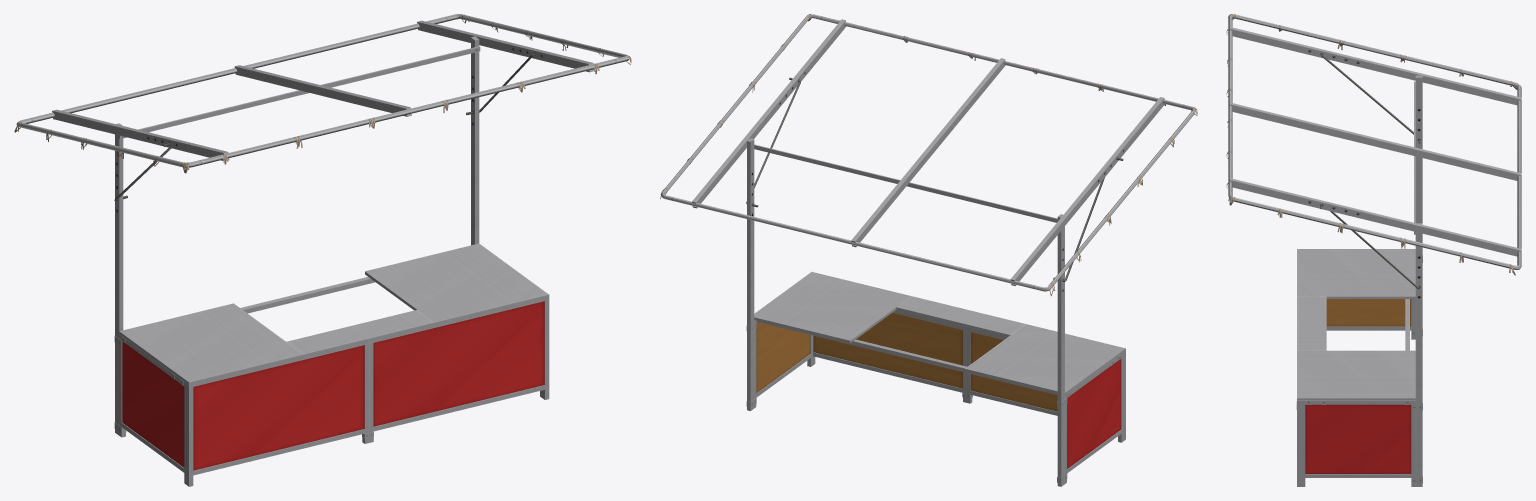
File: jsf_2P_s03_c06_t02.fbx
3 renders of one model, left to right at view 1: azimuth 30°, elevation 25°; view 2: azimuth 150°, elevation 25°; view 3: azimuth 270°, elevation 25°, orthographic. The views are drawn at different scales.
Parts seen in each view (by area): view 1: Base_s03_c06, Table_2P_s03_t02, Pillar2_s03, Rope_2P_s03; view 2: Base_s03_c06, Pillar2_s03, Table_2P_s03_t02; view 3: Pillar2_s03, Table_2P_s03_t02, Base_s03_c06, Rope_2P_s03.
Boxes of the visible parts, left/top/right/bottom form: Base_s03_c06: left=114, top=294, right=549, bottom=486; Table_2P_s03_t02: left=119, top=243, right=547, bottom=385; Pillar2_s03: left=16, top=14, right=629, bottom=435; Rope_2P_s03: left=14, top=14, right=631, bottom=173; Base_s03_c06: left=746, top=271, right=1125, bottom=483; Pillar2_s03: left=660, top=14, right=1196, bottom=486; Table_2P_s03_t02: left=754, top=272, right=1125, bottom=397; Pillar2_s03: left=1228, top=14, right=1521, bottom=486; Table_2P_s03_t02: left=1298, top=249, right=1415, bottom=404; Base_s03_c06: left=1296, top=249, right=1422, bottom=486; Rope_2P_s03: left=1226, top=14, right=1517, bottom=275.
Size of the model in its own units: 316 by 244 by 211.
